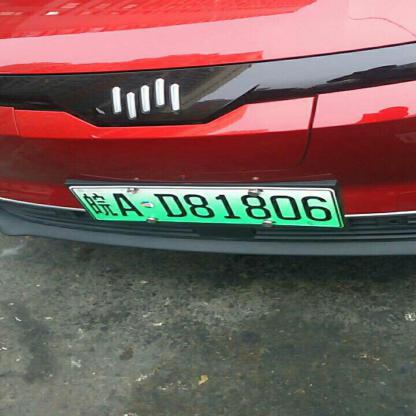lp: (72, 187, 340, 225)
